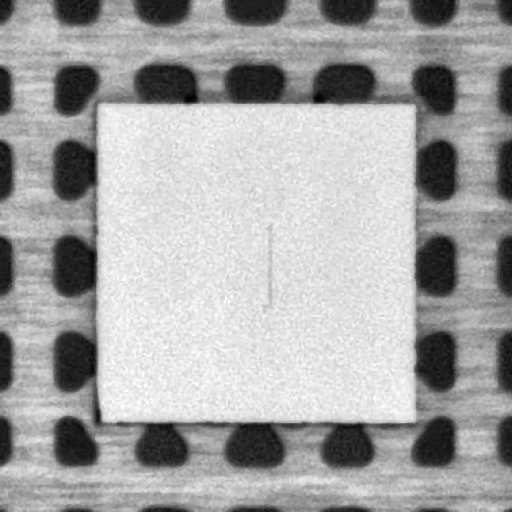DIE_CRACK: (255, 220, 279, 312)
